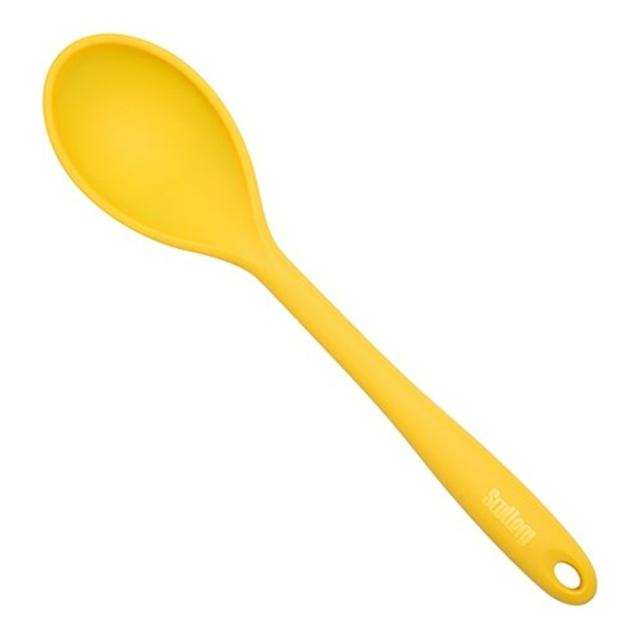spoon: (34, 21, 611, 620)
